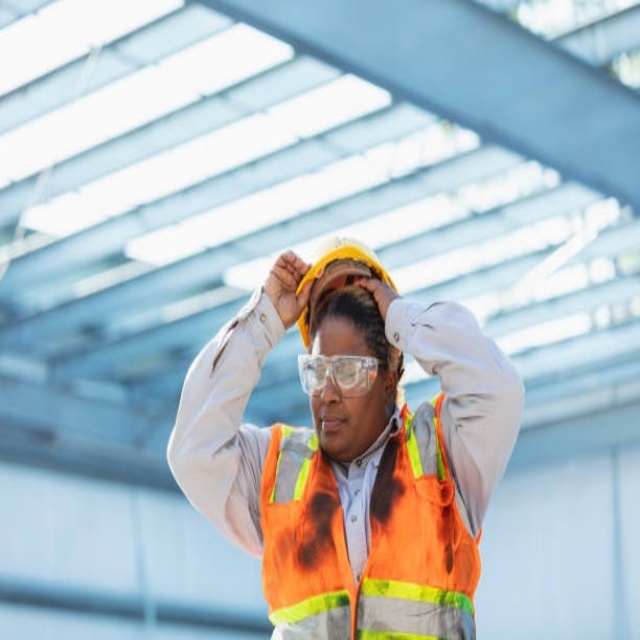Gafas: (295, 351, 385, 395)
Sin_guantes: (260, 240, 317, 322), (358, 274, 400, 331)
Sin_mascara: (314, 406, 355, 447)
